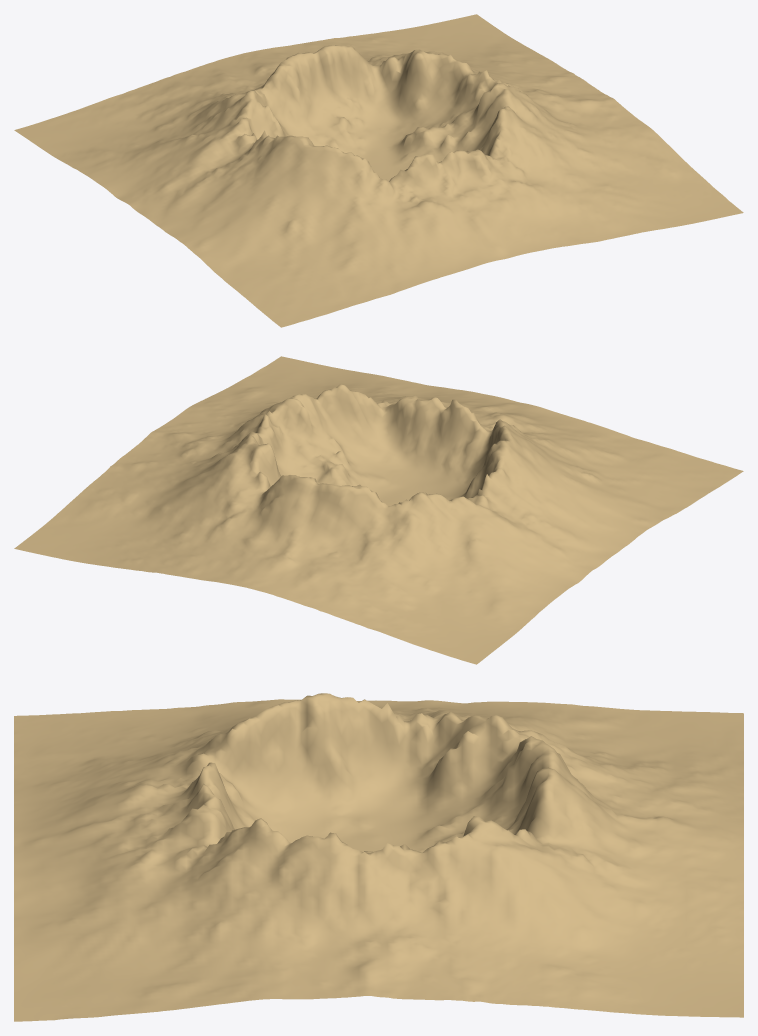
The model's file is crater.dae.
3 renders of one model, top to bottom at view 1: azimuth 30°, elevation 25°; view 2: azimuth 150°, elevation 25°; view 3: azimuth 270°, elevation 25°, orthographic. The views are drawn at different scales.
Parts seen in each view (by area): view 1: Snow_Mountain; view 2: Snow_Mountain; view 3: Snow_Mountain.
Part boxes in pixels (x1=…): Snow_Mountain: x1=14, y1=14, x2=743, y2=327; Snow_Mountain: x1=14, y1=356, x2=743, y2=664; Snow_Mountain: x1=14, y1=693, x2=743, y2=1021.
Size of the model in its own units: 16.17 by 16.17 by 2.61.
